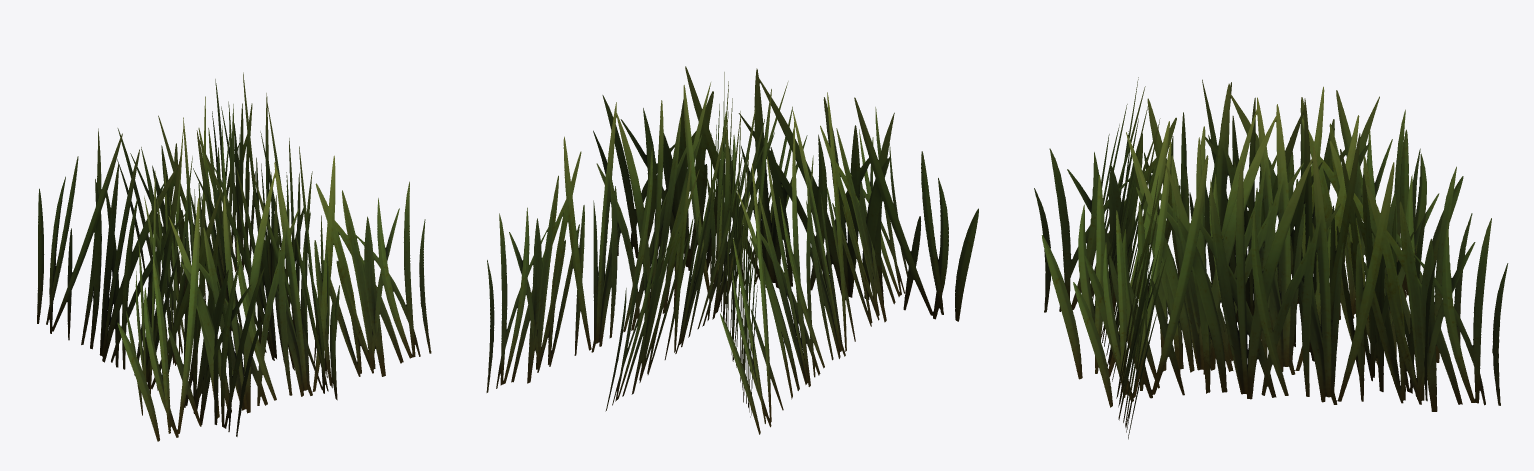
The model's file is grass4.glb.
3 renders of one model, left to right at view 1: azimuth 30°, elevation 25°; view 2: azimuth 150°, elevation 25°; view 3: azimuth 270°, elevation 25°, orthographic. The views are drawn at different scales.
Visible parts, largest first — view 1: green-material; view 2: green-material; view 3: green-material.
Boxes of the visible parts, left/top/right/bottom form: green-material: left=37, top=72, right=431, bottom=441; green-material: left=486, top=66, right=978, bottom=434; green-material: left=1034, top=77, right=1508, bottom=439.
Size of the model in its own units: 1.01 by 0.6861 by 1.11.
Materials: 1 (1 with a texture image).
